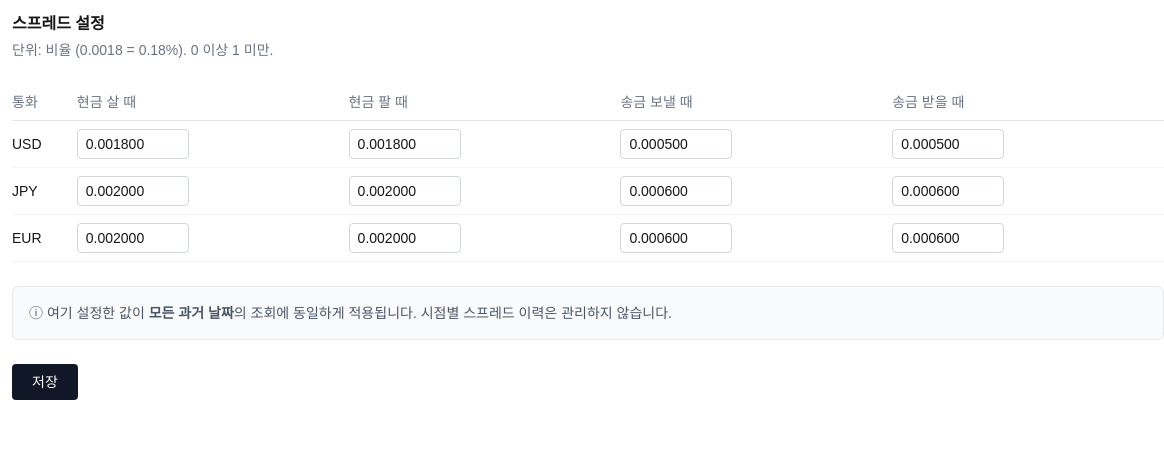
Scenario: 스프레드 설정 › 범위 위반 시 인라인 오류를 표시한다
Replace the text in the 1st field named "USD 현금 살 때" with "1.5" at (133, 144), box [77,129,189,159]
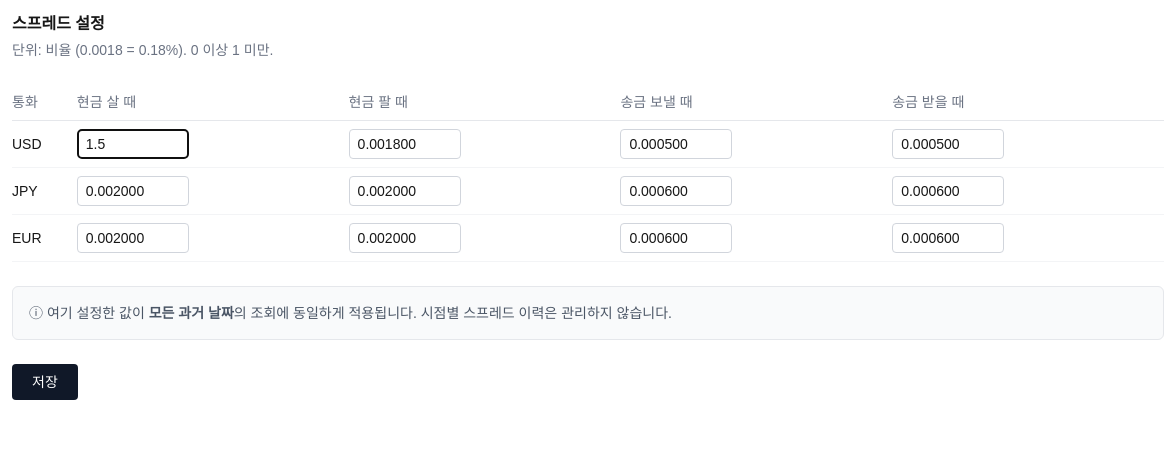
Click the button "저장".
click(45, 382)  # box [12,364,78,400]
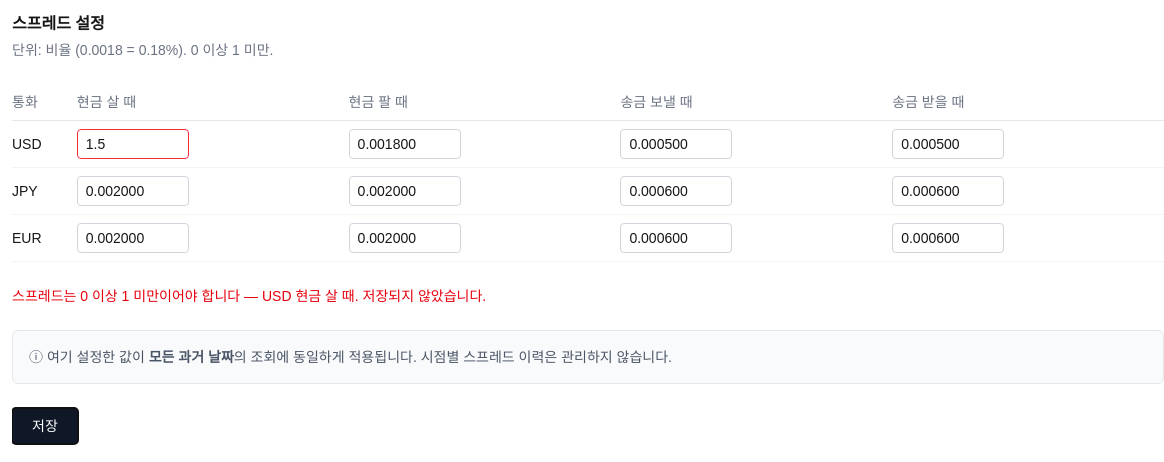
Now the text "스프레드는 0 이상 1 미만이어야 합니다 — USD 현금 살 때. 저장되지 않았습니다." is shown, box [12,288,486,304]
